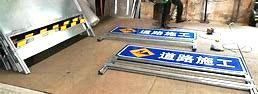sign: (119, 46, 247, 68), (114, 28, 195, 37)
